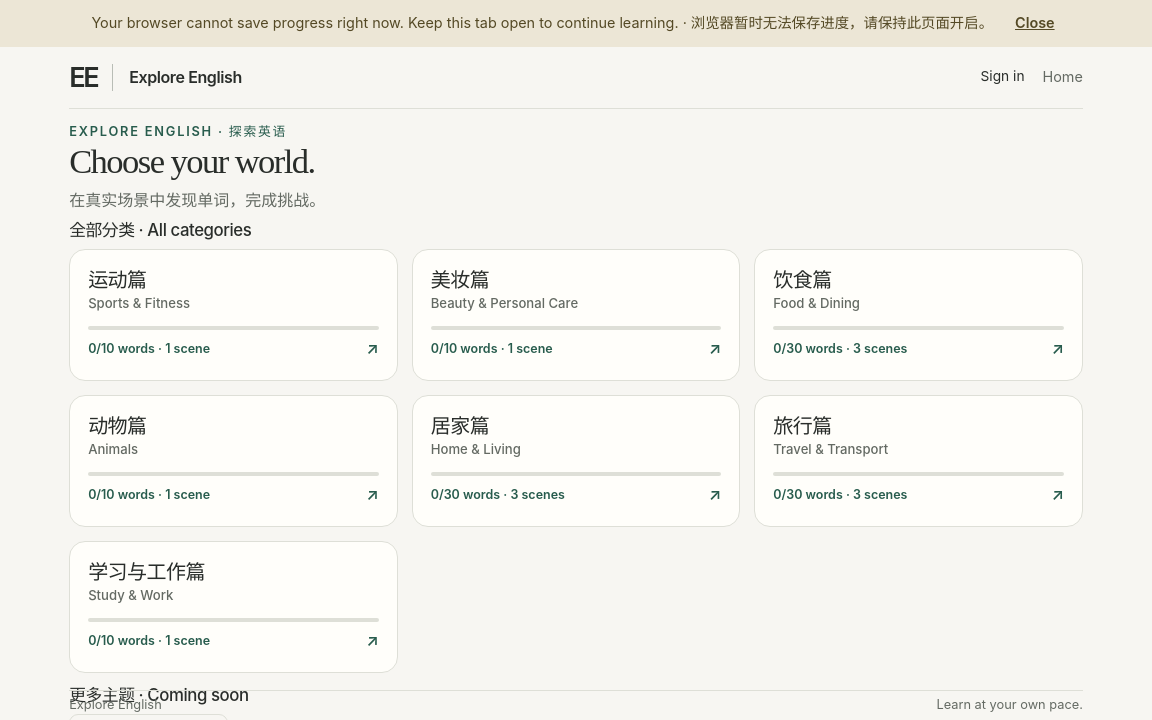
Test case: results and navigation › storage failures are communicated while the page remains usable
Check: the message shows "Your browser cannot save progress", box [91, 14, 993, 31]
Click the button with aria-label "Dismiss saved progress notice". click: (1035,23)
box: [1009, 7, 1060, 40]
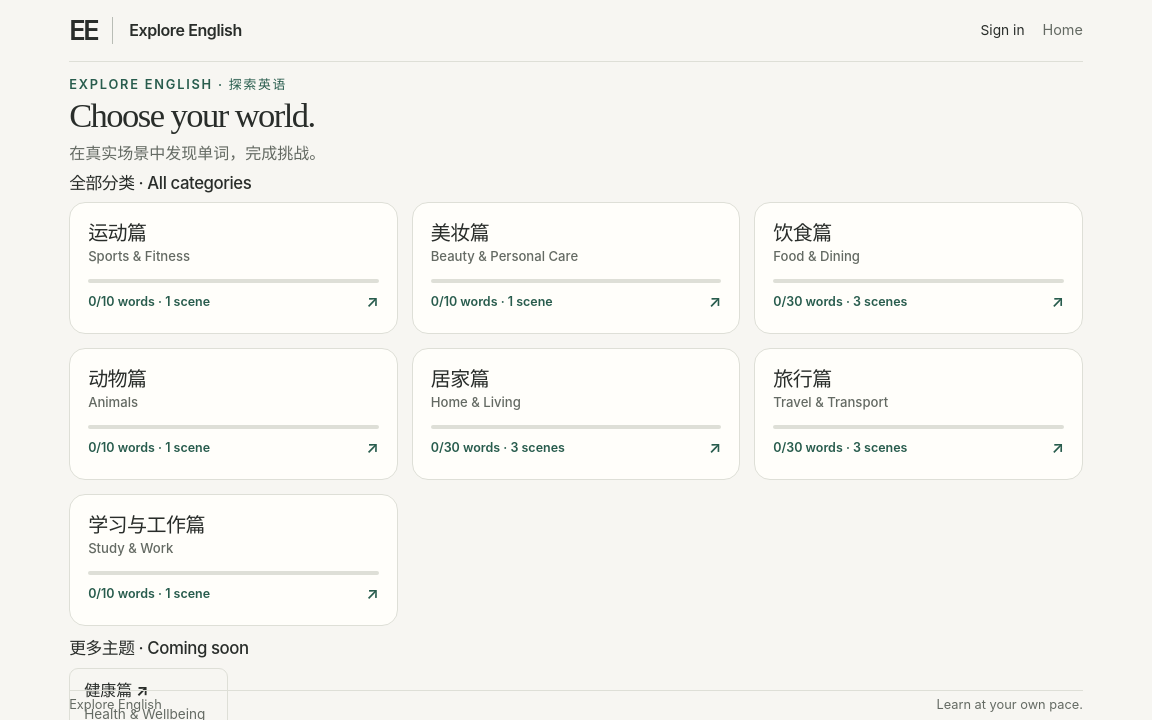
Check: the heading "Choose your world." is shown, box [69, 96, 315, 134]
Check: the message is gone
